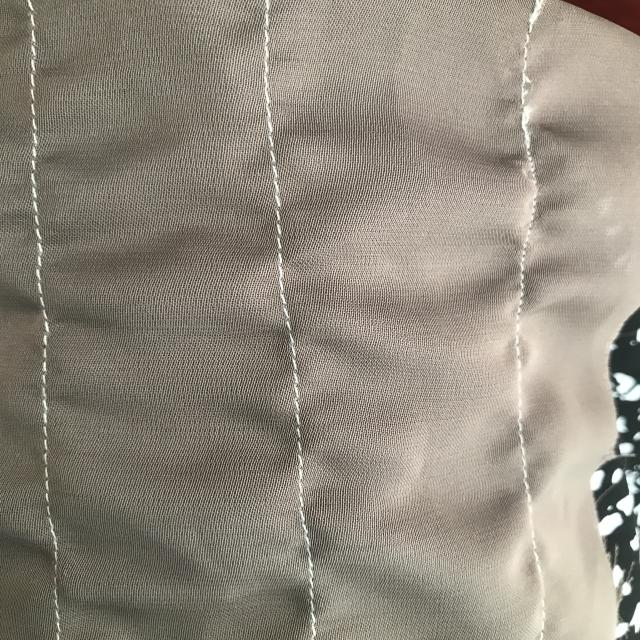good: (17, 163, 56, 294), (12, 16, 50, 144), (255, 42, 282, 143), (37, 331, 55, 462), (287, 408, 317, 475)
